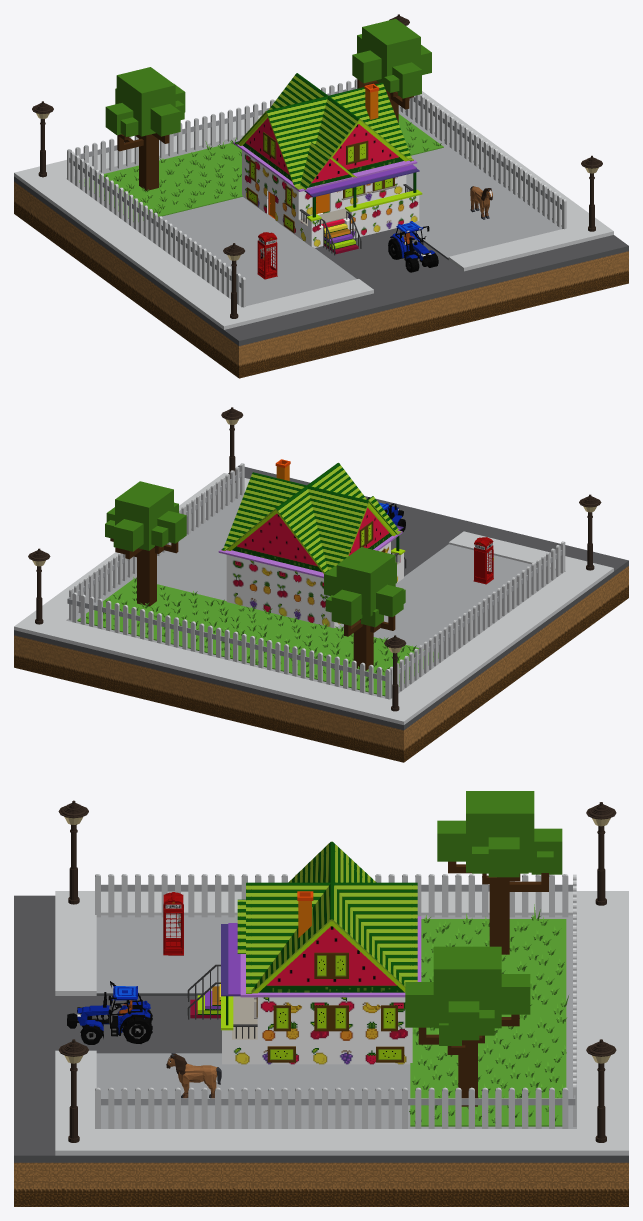
3 views of the same model, one above another, from view 1: azimuth 30°, elevation 25°; view 2: azimuth 150°, elevation 25°; view 3: azimuth 270°, elevation 25° (orthographic). The views are drawn at different scales.
Visible parts, largest first — view 1: Cube.004, Cube.1063, VEHICLES_TRACTOR, OBJRANDOM_PHONEBOOTH, ANIMAL_CABALLO; view 2: Cube.004, Cube.1063, OBJRANDOM_PHONEBOOTH; view 3: Cube.004, Cube.1063, VEHICLES_TRACTOR, ANIMAL_CABALLO, OBJRANDOM_PHONEBOOTH.
Part boxes in pixels (box(x1,y1,x2,y2)): Cube.004: box(14, 14, 628, 378); Cube.1063: box(233, 73, 422, 255); VEHICLES_TRACTOR: box(388, 221, 438, 272); OBJRANDOM_PHONEBOOTH: box(257, 232, 277, 279); ANIMAL_CABALLO: box(470, 186, 492, 219); Cube.004: box(14, 407, 628, 762); Cube.1063: box(218, 459, 406, 627); OBJRANDOM_PHONEBOOTH: box(473, 537, 493, 584); Cube.004: box(14, 791, 628, 1206); Cube.1063: box(187, 841, 421, 1064); VEHICLES_TRACTOR: box(67, 981, 152, 1044); ANIMAL_CABALLO: box(166, 1053, 221, 1098); OBJRANDOM_PHONEBOOTH: box(163, 892, 183, 955).
Size of the model in its own units: 4000 by 1702 by 4000.
39 materials, 5 textured.
